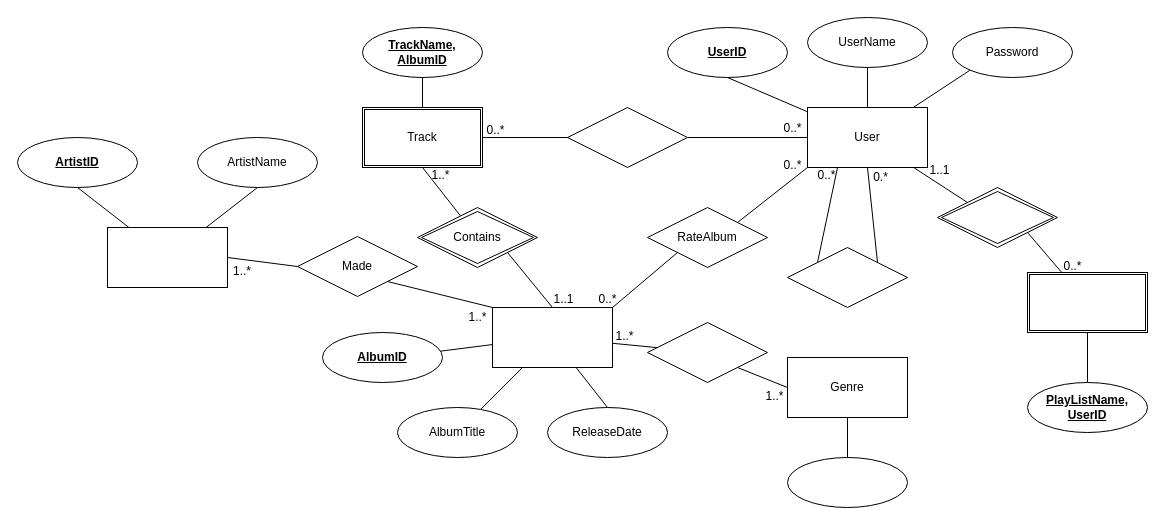
This 1165x525 diagram has some shape labels left out. Here are the shapes that lost their labels. From the top down, the box of each, then its label:
(566, 106, 688, 168): RateTrack
(936, 186, 1058, 248): Own
(106, 226, 228, 288): Artist
(786, 246, 908, 308): Follow
(1026, 272, 1148, 332): PlayList
(492, 306, 612, 368): Album
(646, 322, 768, 382): has
(786, 456, 908, 508): GenreName
